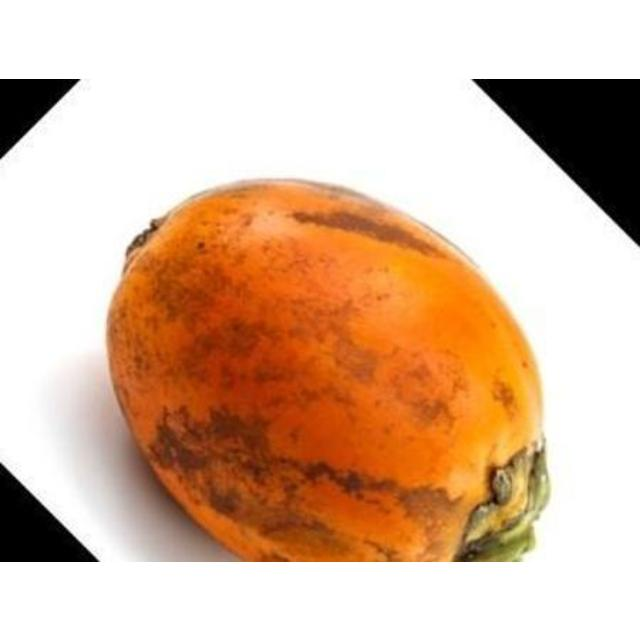good: (104, 179, 552, 560)
